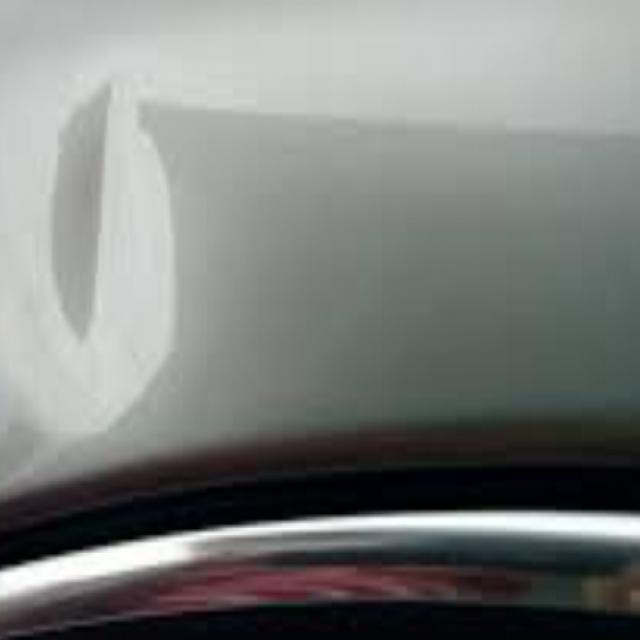dents: (48, 63, 203, 410)
